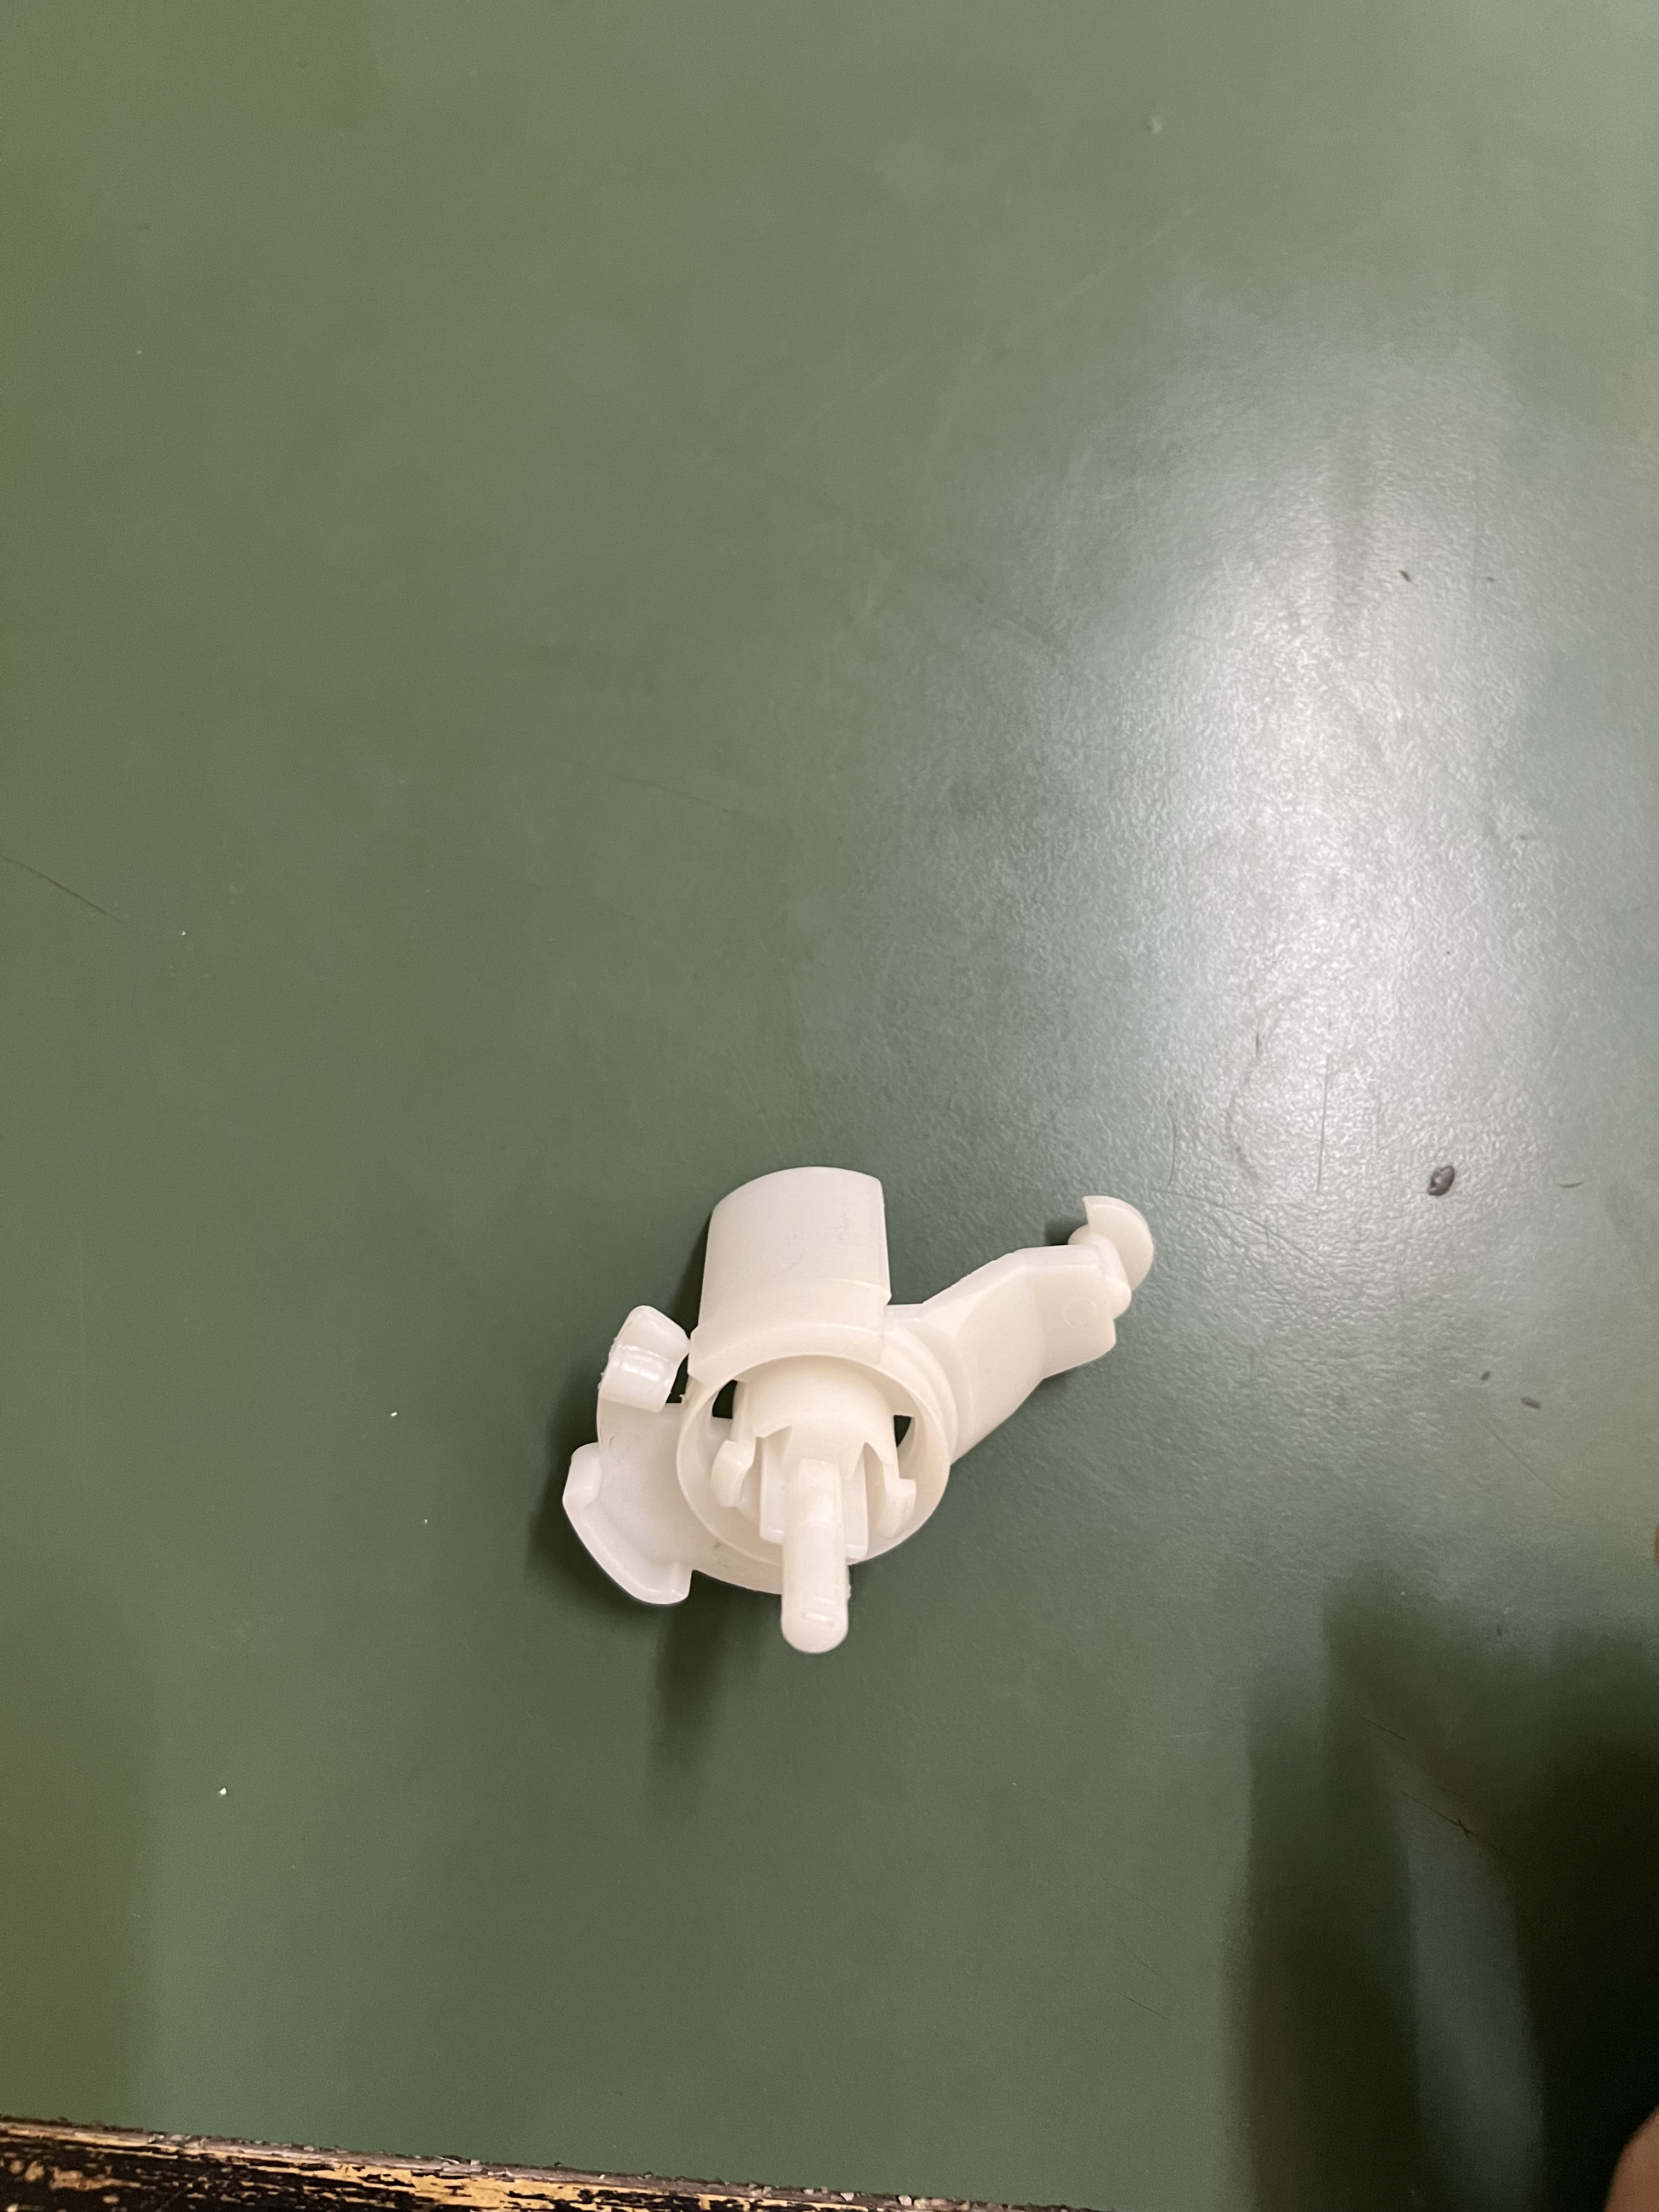drain_lever: (488, 1155, 1164, 1670)
